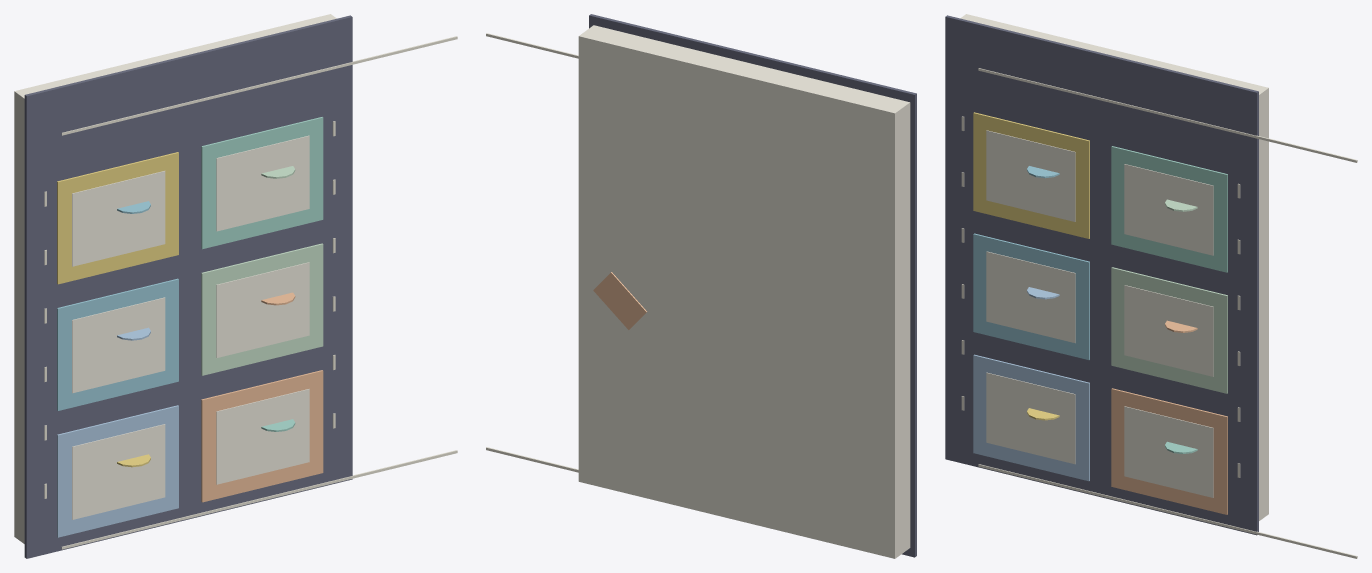
Rendered from item_91_comic_book.glb.
3 views of the same model, side by side, from view 1: azimuth 30°, elevation 25°; view 2: azimuth 150°, elevation 25°; view 3: azimuth 330°, elevation 25° (orthographic). The views are drawn at different scales.
Visible parts, largest first — view 1: I91_Cover, I91_Pages, I91_StampI3, I91_StampI0, I91_StampI1, I91_StampI5, I91_StampI4, I91_StampI2, I91_StampF3, I91_StampF5, I91_StampF1, I91_StampF4 (+2 smaller); view 2: I91_Pages, I91_Cover, I91_Ribbon2; view 3: I91_Cover, I91_Pages, I91_StampI2, I91_StampI4, I91_StampI1, I91_StampI3, I91_StampI5, I91_StampI0, I91_StampF3, I91_StampF1, I91_StampF5, I91_StampF0 (+2 smaller).
Boxes of the visible parts, left/top/right/bottom form: I91_Cover: left=24, top=15, right=352, bottom=558; I91_Pages: left=14, top=14, right=336, bottom=543; I91_StampI3: left=216, top=262, right=309, bottom=357; I91_StampI0: left=72, top=171, right=165, bottom=266; I91_StampI1: left=216, top=135, right=309, bottom=231; I91_StampI5: left=216, top=389, right=309, bottom=484; I91_StampI4: left=72, top=424, right=165, bottom=519; I91_StampI2: left=72, top=297, right=165, bottom=393; I91_StampF3: left=201, top=243, right=323, bottom=375; I91_StampF5: left=201, top=370, right=323, bottom=502; I91_StampF1: left=201, top=117, right=323, bottom=249; I91_StampF4: left=57, top=405, right=178, bottom=537; I91_Pages: left=578, top=25, right=910, bottom=558; I91_Cover: left=589, top=14, right=916, bottom=557; I91_Ribbon2: left=593, top=272, right=646, bottom=329; I91_Cover: left=945, top=15, right=1258, bottom=535; I91_Pages: left=960, top=14, right=1268, bottom=520; I91_StampI2: left=986, top=251, right=1075, bottom=343; I91_StampI4: left=986, top=372, right=1075, bottom=464; I91_StampI1: left=1124, top=164, right=1213, bottom=255; I91_StampI3: left=1124, top=285, right=1213, bottom=376; I91_StampI5: left=1124, top=406, right=1213, bottom=497; I91_StampI0: left=986, top=130, right=1075, bottom=221; I91_StampF3: left=1111, top=267, right=1227, bottom=393; I91_StampF1: left=1111, top=146, right=1227, bottom=272; I91_StampF5: left=1111, top=388, right=1227, bottom=514; I91_StampF0: left=973, top=112, right=1089, bottom=238.
Bounding box in the file's own units: 0.185 × 0.19 × 0.0208.
